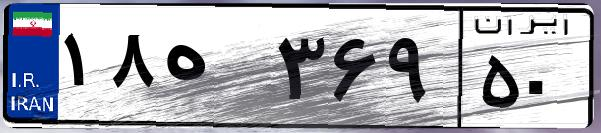0: (525, 38, 570, 115)
1: (57, 26, 110, 100)
3: (270, 28, 330, 110)
5: (475, 38, 525, 113)
6: (330, 28, 385, 110)
8: (110, 28, 158, 98)
9: (385, 28, 445, 110)
ه: (158, 20, 270, 120)
